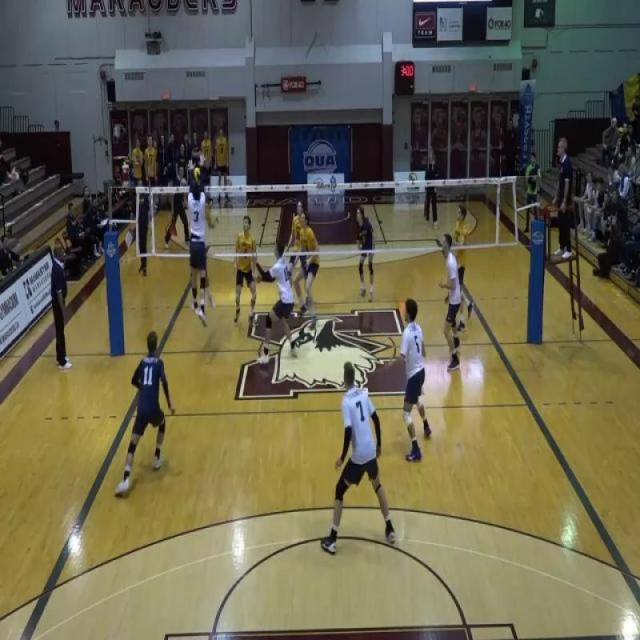volleyball: (193, 166, 201, 186)
